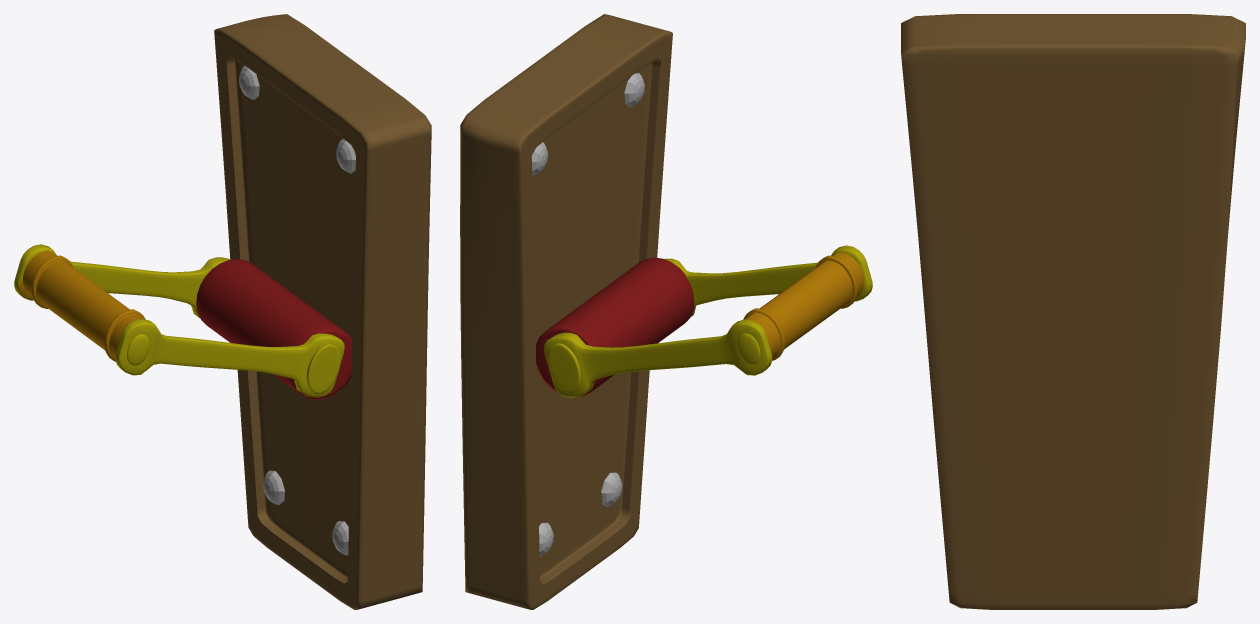
Rendered from New-Lever.fbx.
3 renders of one model, left to right at view 1: azimuth 30°, elevation 25°; view 2: azimuth 150°, elevation 25°; view 3: azimuth 270°, elevation 25°, orthographic. The views are drawn at different scales.
Visible parts, largest first — view 1: pCube212, Hand_Lever, pCylinder58, pSphere21; view 2: pCube212, Hand_Lever, pCylinder58, pSphere22; view 3: pCube212.
Boxes of the visible parts, x1=… form: pCube212: x1=214, y1=14, x2=431, y2=609; Hand_Lever: x1=14, y1=244, x2=344, y2=397; pCylinder58: x1=196, y1=259, x2=351, y2=399; pSphere21: x1=263, y1=470, x2=284, y2=504; pCube212: x1=460, y1=14, x2=672, y2=609; Hand_Lever: x1=544, y1=245, x2=872, y2=397; pCylinder58: x1=536, y1=257, x2=694, y2=397; pSphere22: x1=600, y1=472, x2=622, y2=506; pCube212: x1=901, y1=14, x2=1245, y2=609.
Bounding box in the file's own units: 3.05 × 4.82 × 2.69.
